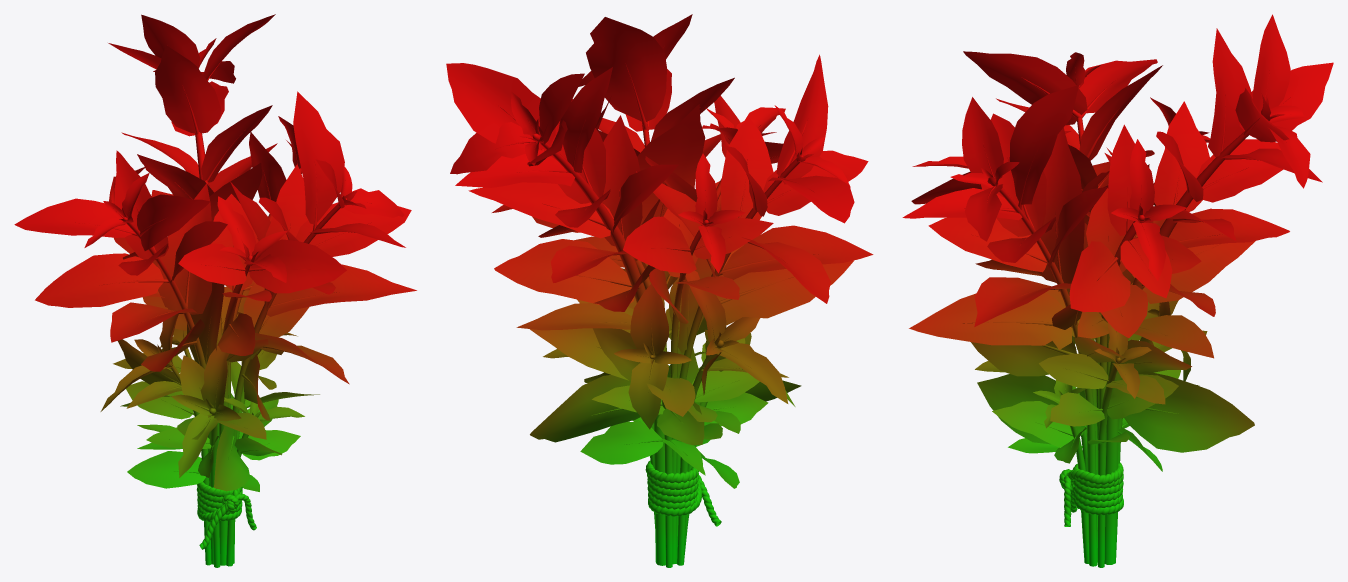
Rendered from Var6_LOD0.fbx.
The picture shows the model from 3 angles, left to right: view 1: azimuth 30°, elevation 25°; view 2: azimuth 150°, elevation 25°; view 3: azimuth 270°, elevation 25°; orthographic projection. The views are drawn at different scales.
Parts seen in each view (by area): view 1: _bncx_Var6_LOD0; view 2: _bncx_Var6_LOD0; view 3: _bncx_Var6_LOD0.
Part boxes in pixels (x1,y1,x2,y2): _bncx_Var6_LOD0: (14,14,416,567); _bncx_Var6_LOD0: (446,14,873,567); _bncx_Var6_LOD0: (902,14,1333,567).
Bounding box in the file's own units: 20.37 × 28.71 × 20.52.
